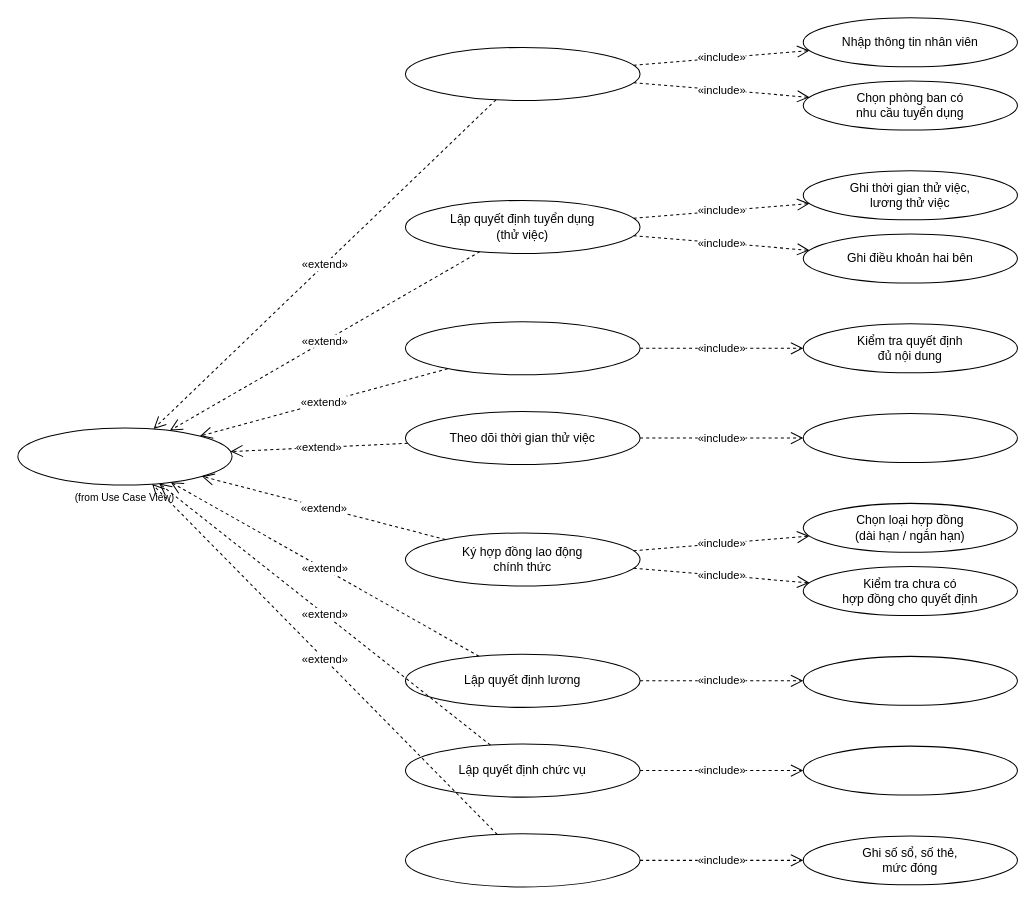
Some shapes in this 1035 by 905 pixel diagram are drawn without their labels. The shapes that lost their labels are listed below. From the top down, each one's centre as x and y in pixels, then its label:
pixel 522 73: Tiếp nhận ứng viên, lập hồ sơ nhân viên
pixel 522 348: Giám đốc ký quyết định
pixel 124 456: Từ nhận vào thử việc đến ký hợp đồng chính thức
pixel 909 438: Kiểm tra hết thời gian thử việc
pixel 909 680: Ghi lương cơ bản, phụ cấp lương, độc hại
pixel 909 770: Ghi chức vụ, phụ cấp chức vụ
pixel 522 860: Làm hồ sơ BHYT, BHXH (hợp đồng dài hạn)
